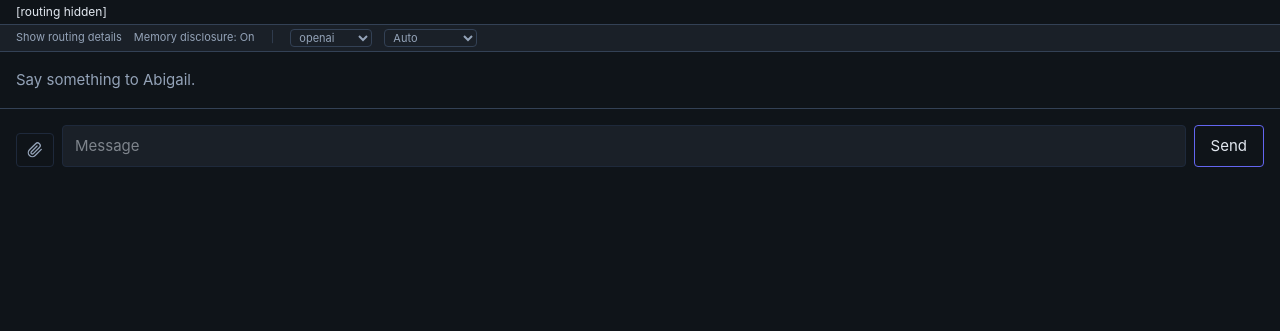
ChatInterface › shows execution trace attribution with configured+executed when routing details enabled
Step 1. Type "hello" into the text box with placeholder "Message" → coordinates (624, 146), box left=62, top=125, right=1186, bottom=167
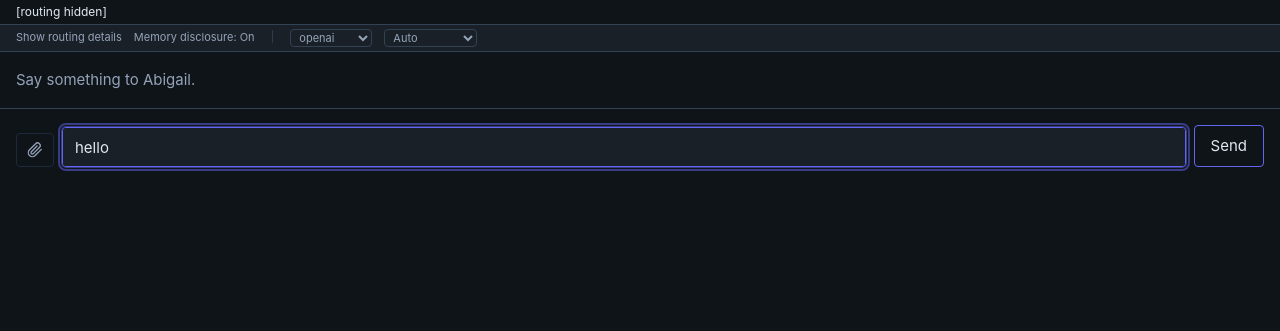
Step 2. Click the button "Send" → coordinates (1229, 146), box left=1194, top=125, right=1264, bottom=167
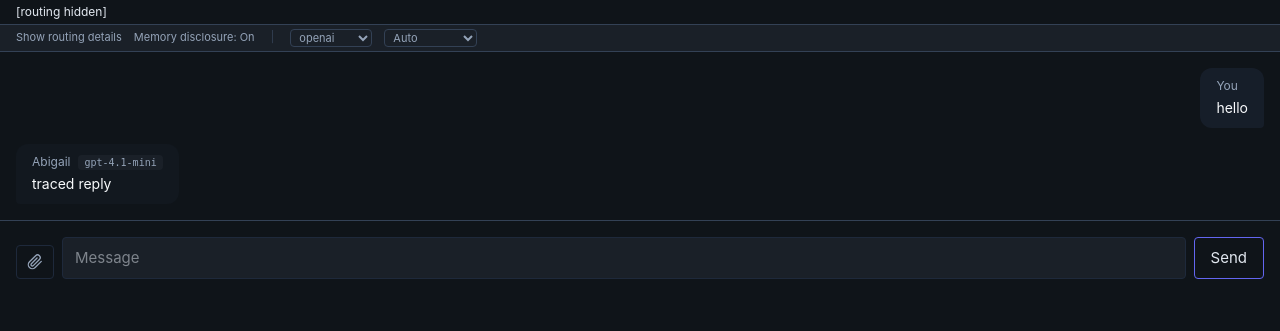
Result: the text "traced reply" is shown at left=32, top=175, right=112, bottom=192
// Enable routing details to see the execution trace rendering.
Step 3. Click the button "Show routing details" → coordinates (69, 38), box left=16, top=29, right=122, bottom=47
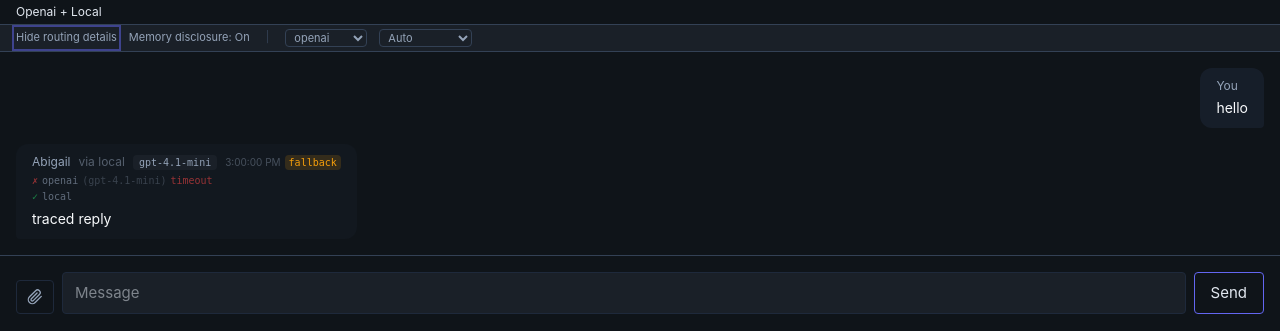
Result: the text "fallback" is shown at left=285, top=155, right=341, bottom=170
Result: the text "local" is shown at left=42, top=190, right=72, bottom=205
